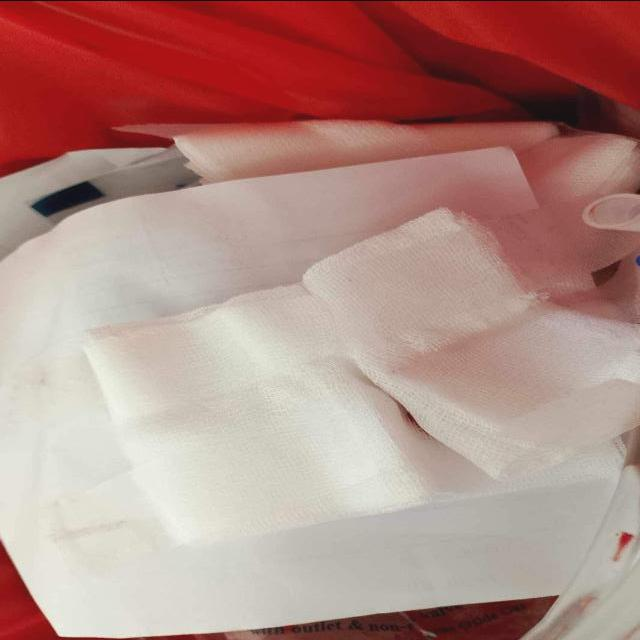Pathological: (1, 119, 638, 638)
Sharps: (397, 609, 441, 640)
